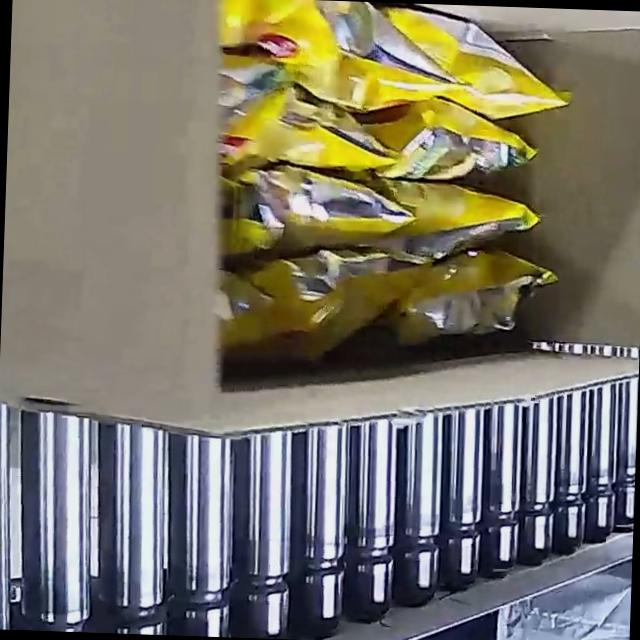salted: (206, 0, 576, 372)
